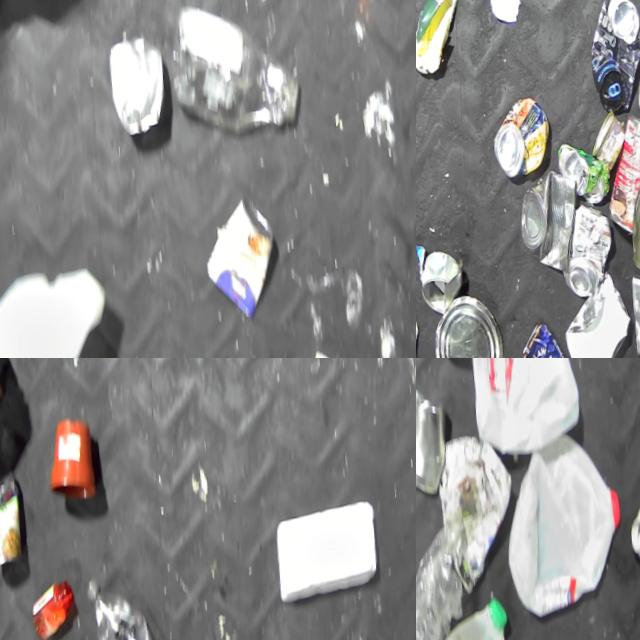can: (201, 195, 287, 331), (519, 171, 588, 286), (585, 0, 640, 121), (561, 205, 621, 306), (491, 97, 556, 185), (431, 289, 512, 358), (0, 449, 41, 582), (416, 372, 455, 510), (603, 115, 640, 244), (558, 142, 615, 215), (421, 253, 470, 322), (590, 116, 632, 179), (522, 319, 581, 358), (628, 154, 640, 279)
milk_jug: (499, 434, 633, 637), (456, 358, 589, 471), (0, 259, 119, 358), (416, 593, 529, 640)
plastic_bottle: (164, 0, 307, 152), (416, 522, 477, 640)
